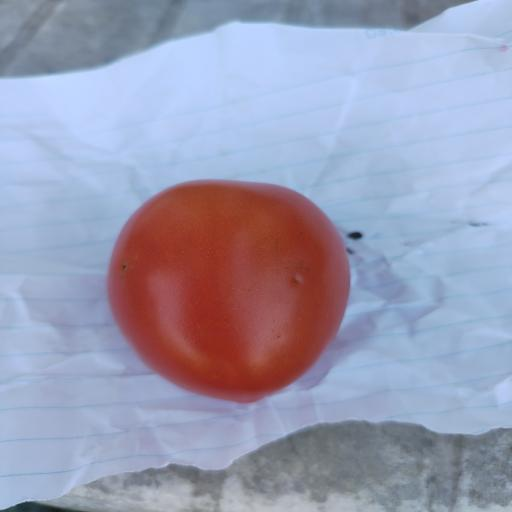ripe: (108, 180, 350, 402)
